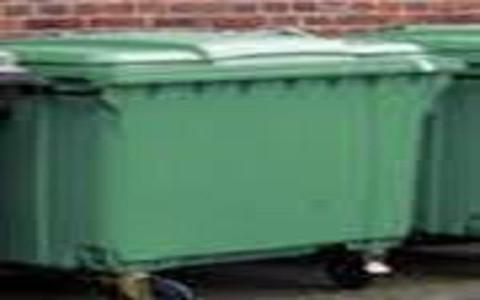Proper garbage: (1, 17, 441, 297)
